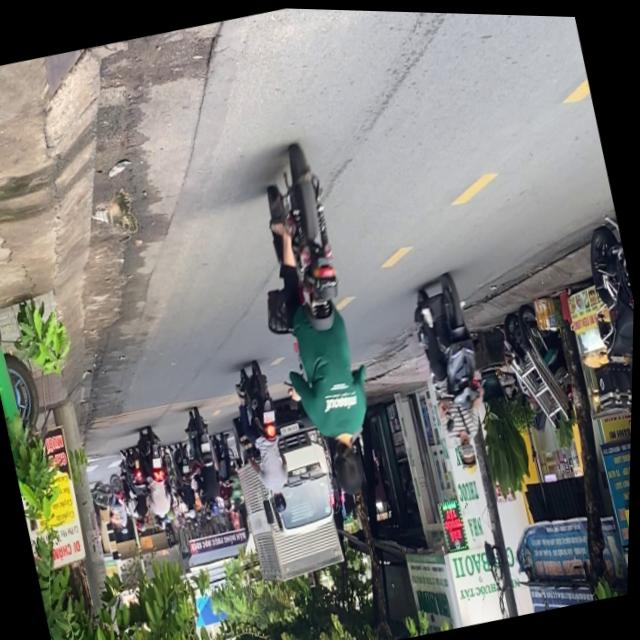helmet: (459, 435, 485, 478), (274, 488, 293, 515)
licenseplate: (232, 139, 401, 506), (402, 266, 511, 484), (229, 358, 304, 518)
motorcyclist: (328, 432, 371, 496)
nohelmet: (265, 409, 279, 423)
